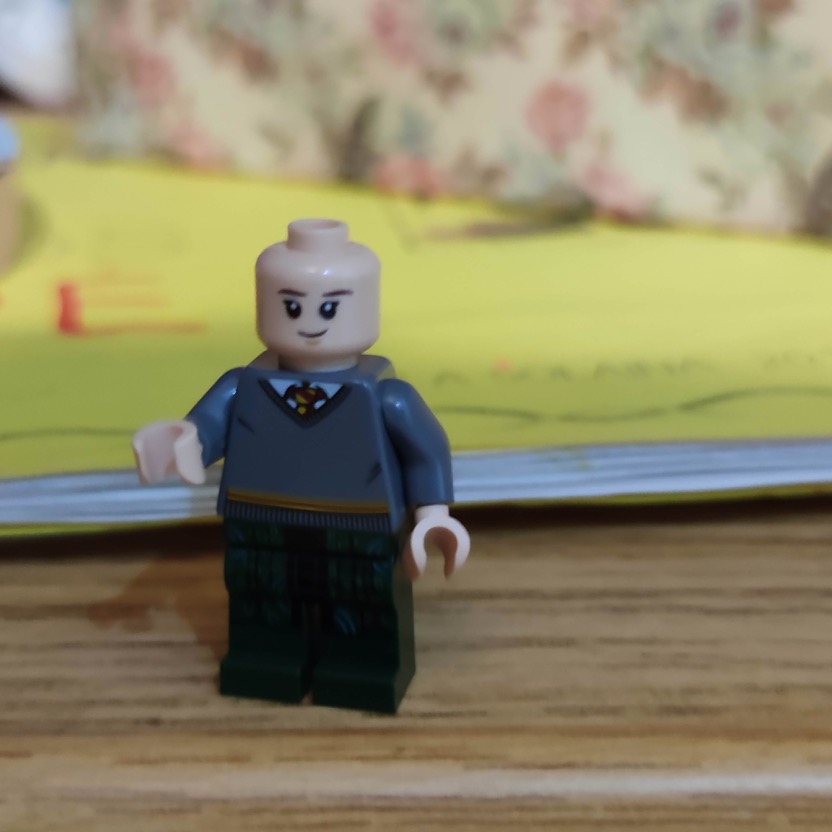lego: (130, 218, 472, 720)
